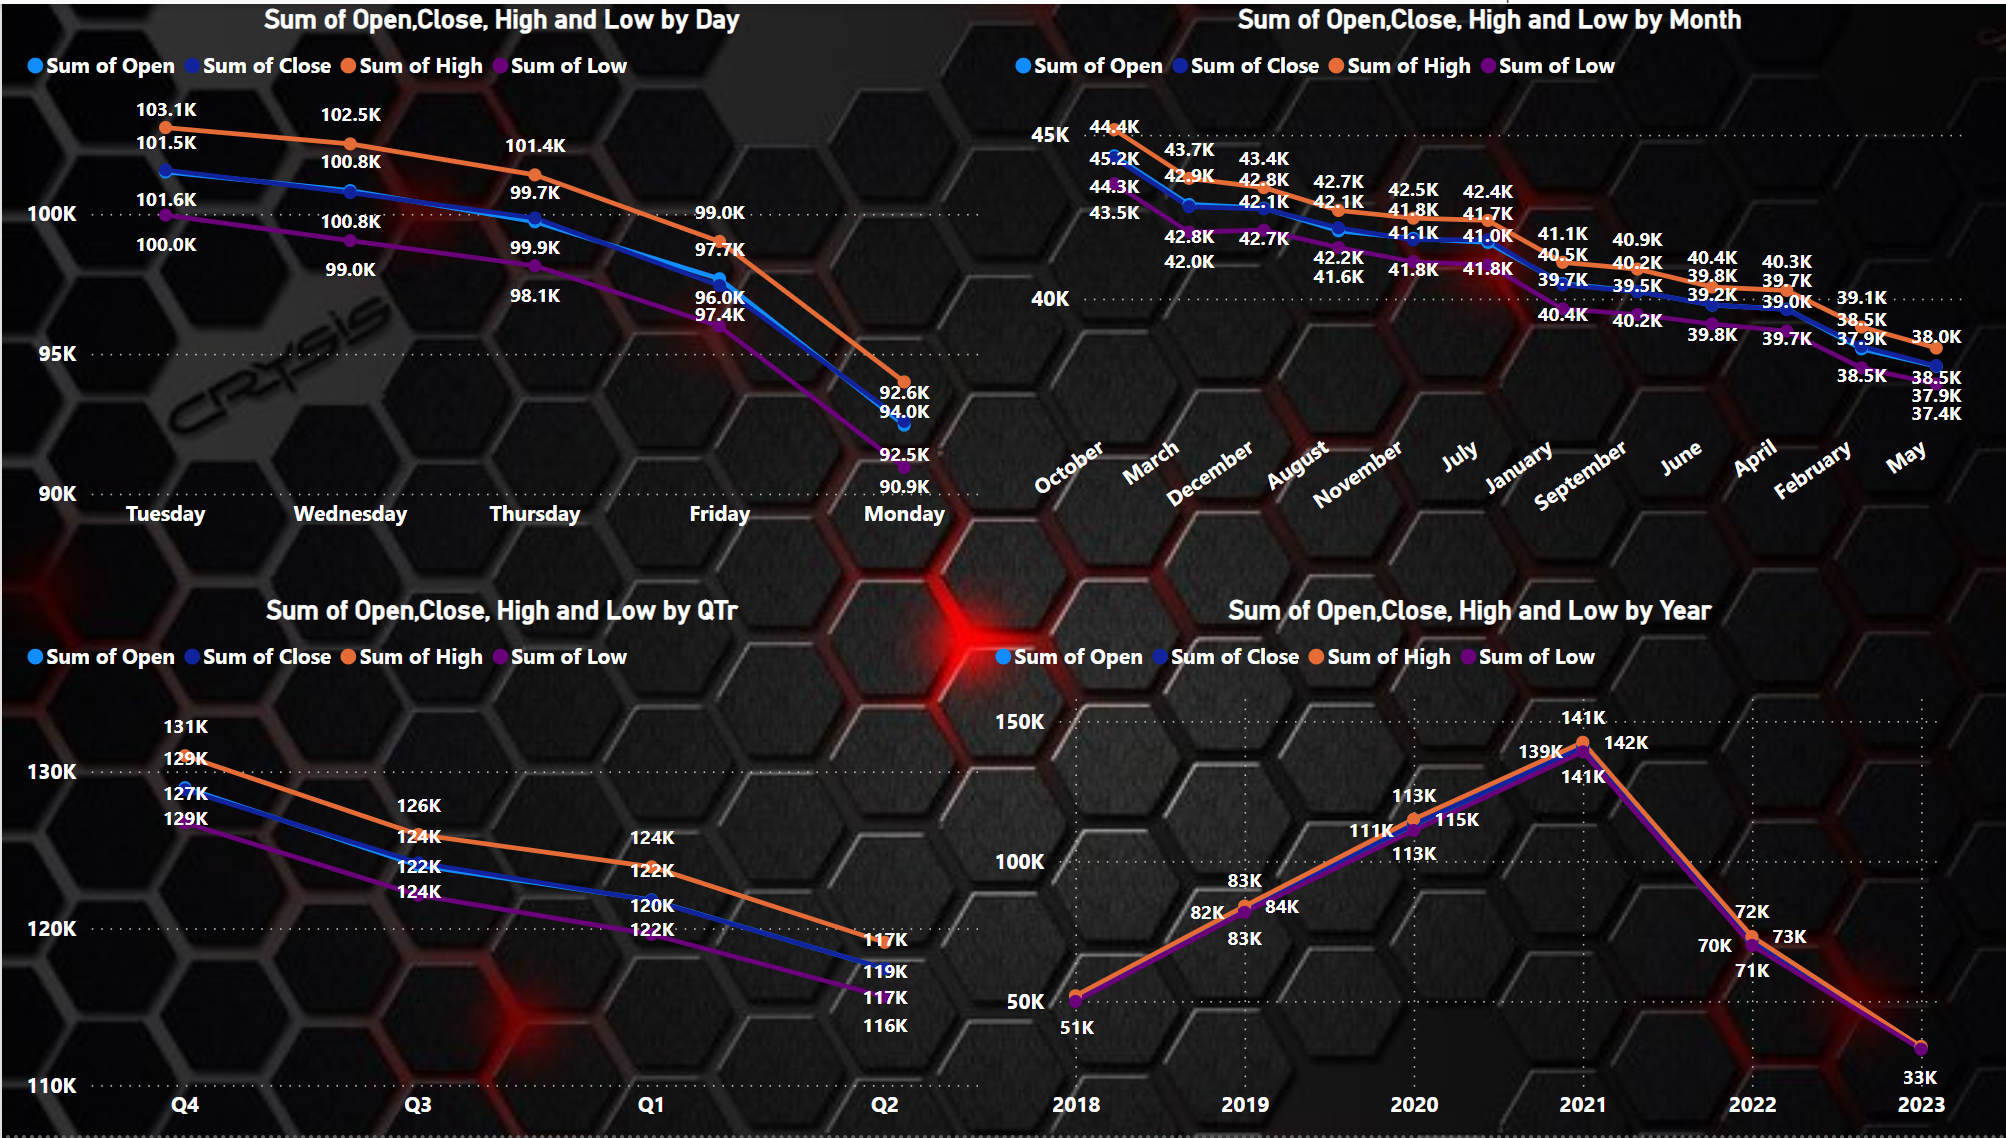

What the dashboard file says about the page in this screenshot:
{"tool":"powerbi","page":{"name":"Stock Market ANlysis","canvas":[1280,720],"ordinal":1},"visuals":[{"type":"lineChart","title":"Sum of Open,Close, High and Low by Day","fields":{"Category":["Sheet1.Day"],"Y":["Sum(Sheet1.Open)","Sum(Sheet1.Close)","Sum(Sheet1.High)","Sum(Sheet1.Low)"]},"box":[10.2,0,617,344],"z":0},{"type":"lineChart","title":"Sum of Open,Close, High and Low by Month","fields":{"Category":["Sheet1.Month"],"Y":["Sum(Sheet1.Open)","Sum(Sheet1.Close)","Sum(Sheet1.High)","Sum(Sheet1.Low)"]},"box":[640,0,617.1,344.2],"z":1000},{"type":"lineChart","title":"Sum of Open,Close, High and Low by QTr","fields":{"Category":["Sheet1.Qtr"],"Y":["Sum(Sheet1.Open)","Sum(Sheet1.Close)","Sum(Sheet1.High)","Sum(Sheet1.Low)"]},"box":[10.2,376.1,617.1,344.2],"z":2000},{"type":"lineChart","title":"Sum of Open,Close, High and Low by Year","fields":{"Y":["Sum(Sheet1.Open)","Sum(Sheet1.Close)","Sum(Sheet1.High)","Sum(Sheet1.Low)"],"Category":["Sheet1.Year"]},"box":[627.3,376.1,617.1,344.2],"z":3000}]}

Visuals, with their boxes in screenshot pixels (x1, y1, x2, y2), scaled from the page's 1280x720 canvas onto the 2006x1138 screenshot:
"Sum of Open,Close, High and Low by Day" lineChart: <box>16,0,983,544</box>
"Sum of Open,Close, High and Low by Month" lineChart: <box>1003,0,1970,544</box>
"Sum of Open,Close, High and Low by QTr" lineChart: <box>16,594,983,1137</box>
"Sum of Open,Close, High and Low by Year" lineChart: <box>983,594,1950,1137</box>
